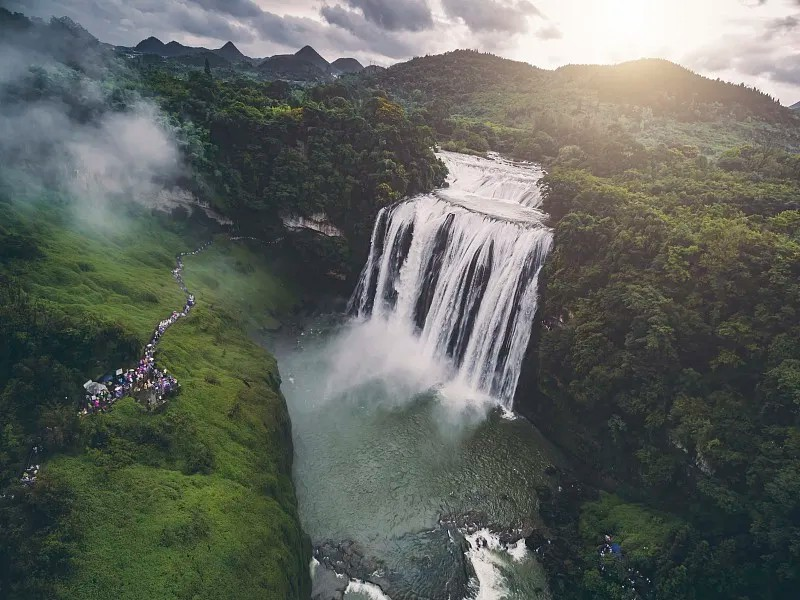Huangguoshu: (348, 151, 555, 417)
